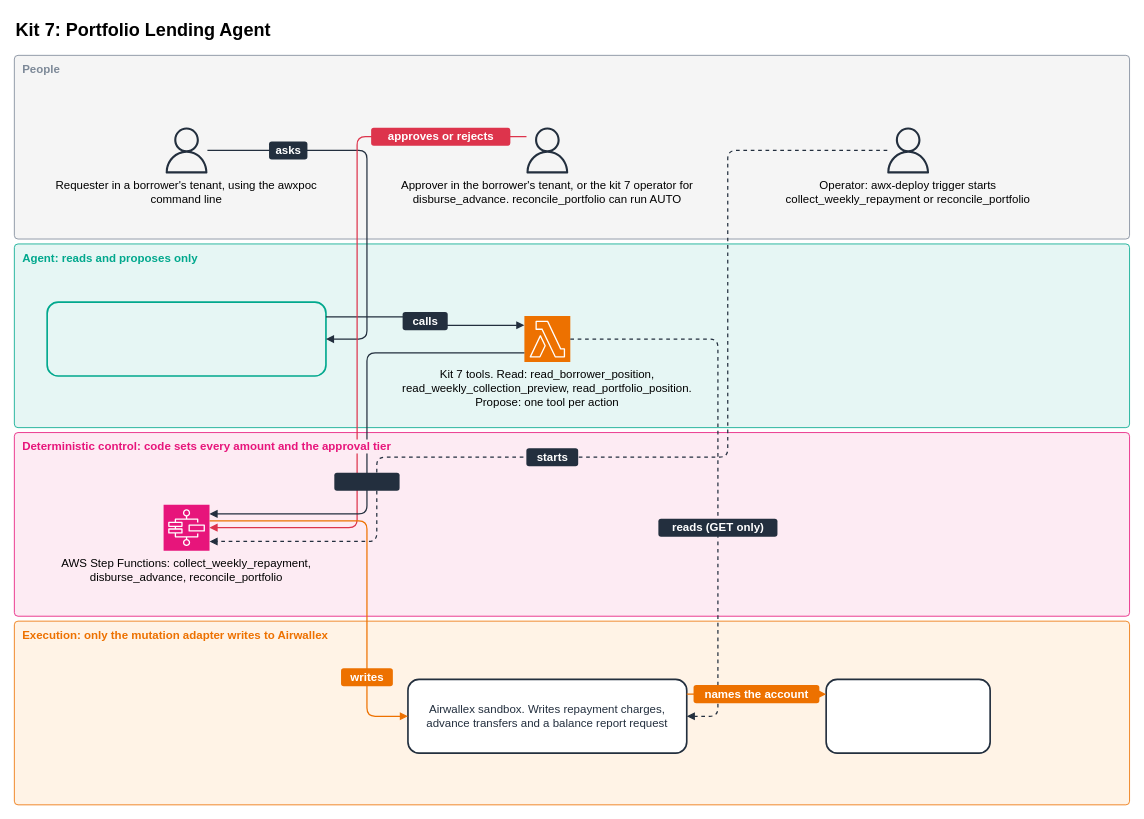
Image size: 1144x819. Some labels were removed from this diagram. The centre of each missing label's shape, as x and y in pixels:
Amazon Bedrock AgentCore Runtime: the agent and its Amazon Bedrock model: (x=186, y=338)
Connected accounts, one per borrower: (x=908, y=716)
proposes: (x=366, y=481)
